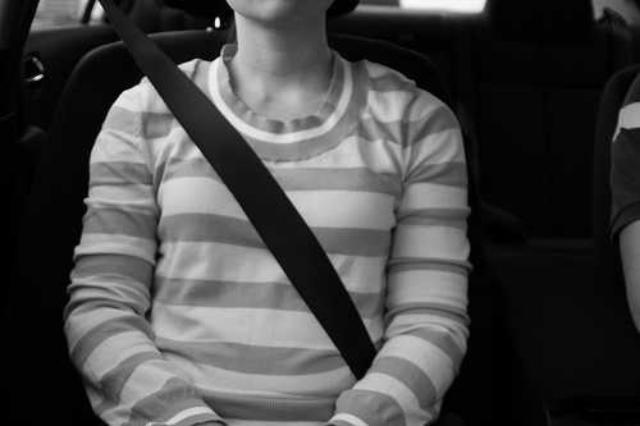Seatbelt: (95, 0, 378, 382)
